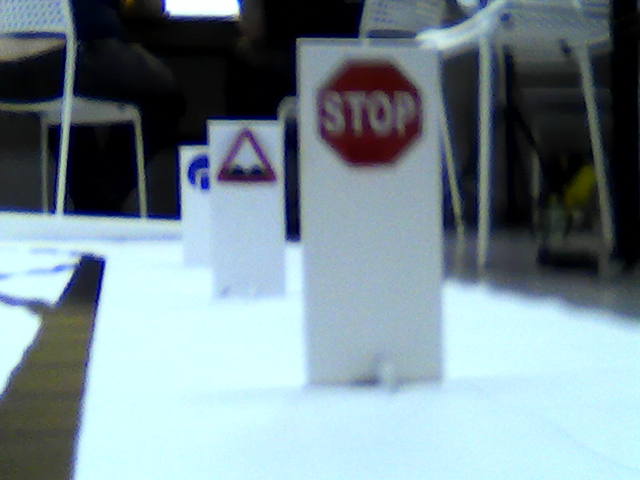Nerov: (217, 130, 277, 183)
Stop: (315, 55, 428, 165)
